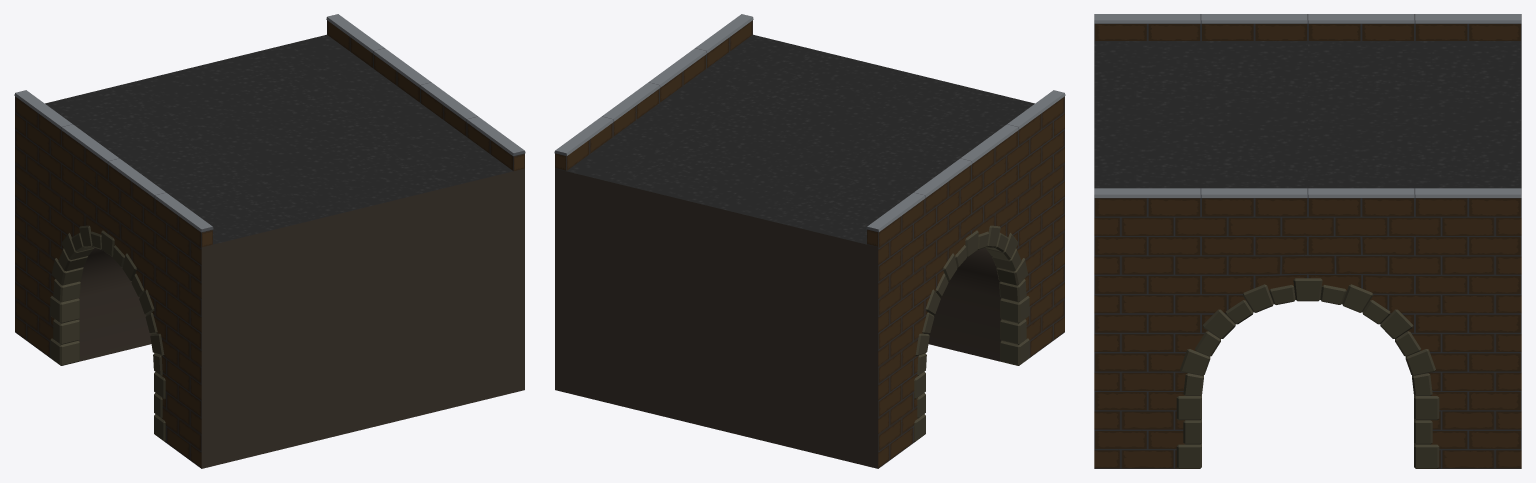
File: SW_ENV_WalledStraight_DoubleTrack_Short.fbx
3 renders of one model, left to right at view 1: azimuth 30°, elevation 25°; view 2: azimuth 150°, elevation 25°; view 3: azimuth 270°, elevation 25°, orthographic. The views are drawn at different scales.
Parts seen in each view (by area): view 1: SW_ENV_WalledStraight_DoubleTrack_Short; view 2: SW_ENV_WalledStraight_DoubleTrack_Short; view 3: SW_ENV_WalledStraight_DoubleTrack_Short.
Part boxes in pixels (x1,y1,x2,y2): SW_ENV_WalledStraight_DoubleTrack_Short: [14, 14, 525, 468]; SW_ENV_WalledStraight_DoubleTrack_Short: [554, 14, 1065, 468]; SW_ENV_WalledStraight_DoubleTrack_Short: [1094, 14, 1521, 468].
Bounding box in the file's own units: 10.09 × 7.08 × 10.
